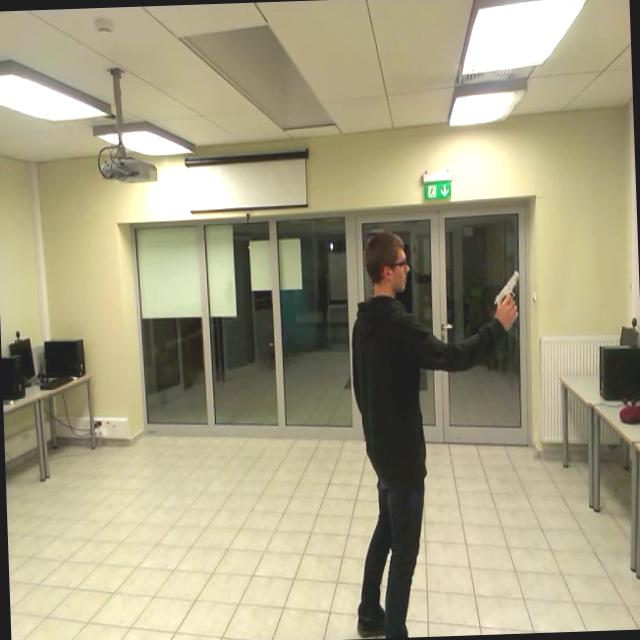handgun: (488, 258, 534, 330)
